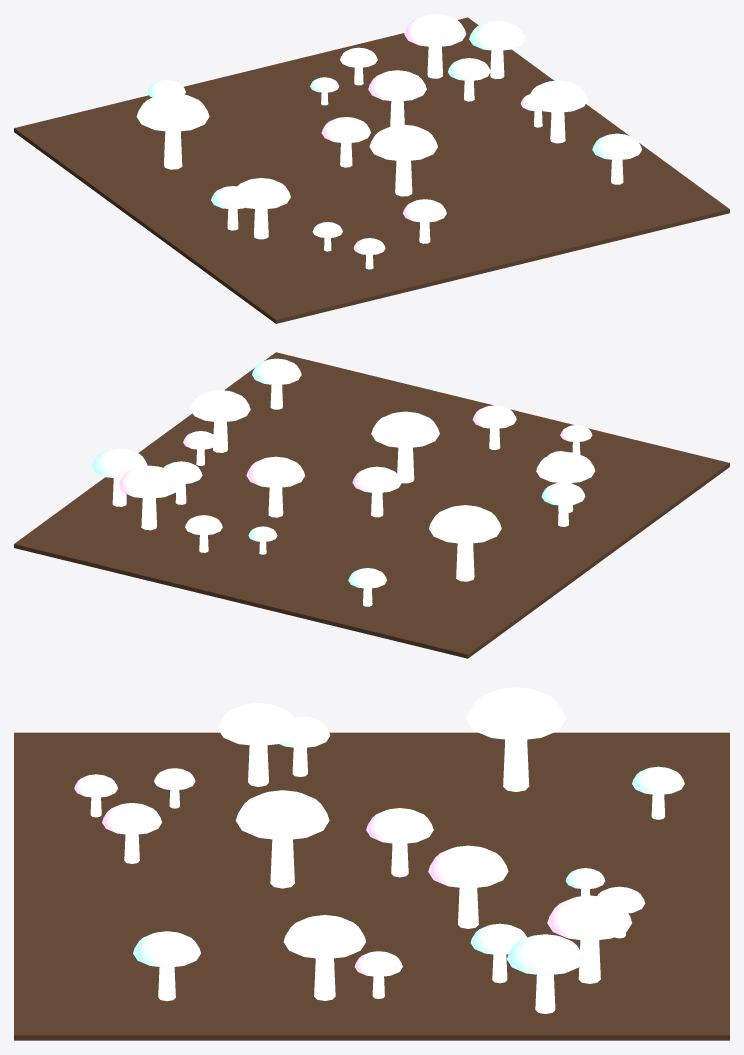
The model's file is mushroom_field.glb.
3 renders of one model, top to bottom at view 1: azimuth 30°, elevation 25°; view 2: azimuth 150°, elevation 25°; view 3: azimuth 270°, elevation 25°, orthographic. The views are drawn at different scales.
Visible parts, largest first — view 1: mushroom_field; view 2: mushroom_field; view 3: mushroom_field.
Part boxes in pixels (x1=…): mushroom_field: x1=14, y1=14, x2=729, y2=323; mushroom_field: x1=14, y1=352, x2=729, y2=658; mushroom_field: x1=14, y1=687, x2=729, y2=1040.
Bounding box in the file's own units: 6 × 0.8981 × 6.
